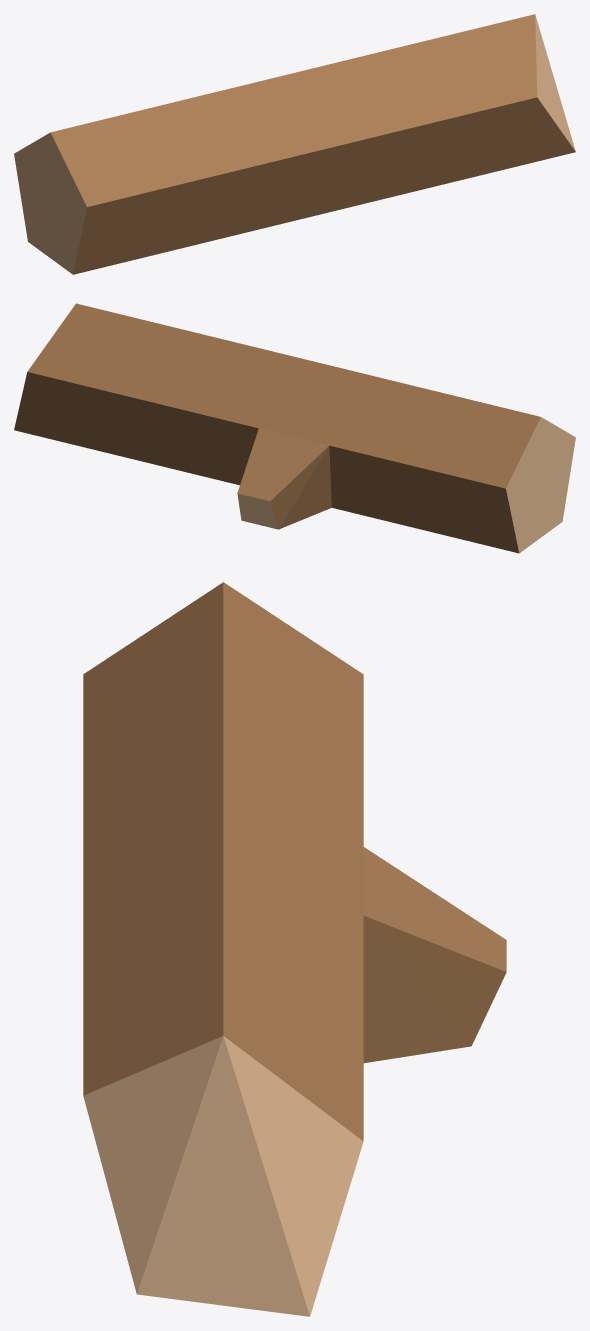
The model's file is Pine_Firewood_02.fbx.
3 views of the same model, one above another, from view 1: azimuth 30°, elevation 25°; view 2: azimuth 150°, elevation 25°; view 3: azimuth 270°, elevation 25° (orthographic). The views are drawn at different scales.
Visible parts, largest first — view 1: Pine_Firewood_02; view 2: Pine_Firewood_02; view 3: Pine_Firewood_02.
Part boxes in pixels (x1,y1,x2,y2): Pine_Firewood_02: [14, 14, 575, 274]; Pine_Firewood_02: [14, 303, 575, 553]; Pine_Firewood_02: [83, 582, 506, 1316].
Bounding box in the file's own units: 54.97 × 12.56 × 19.95.
